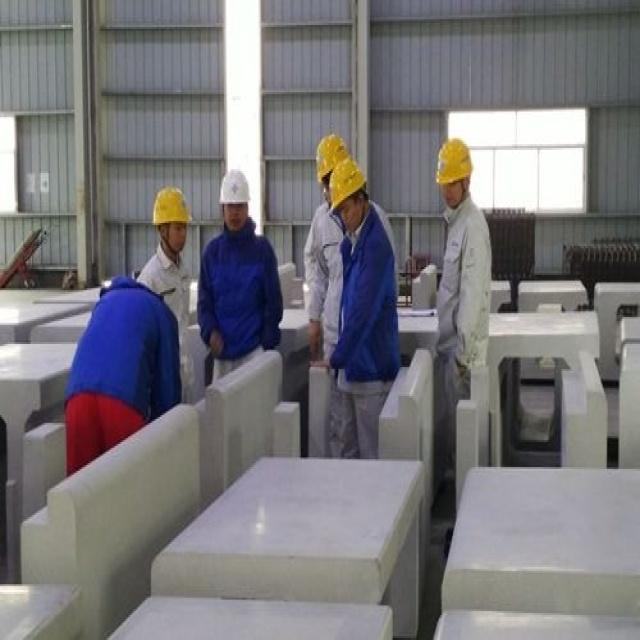helmet: (152, 247, 193, 344), (328, 211, 368, 308), (434, 180, 471, 277), (218, 227, 251, 313)
